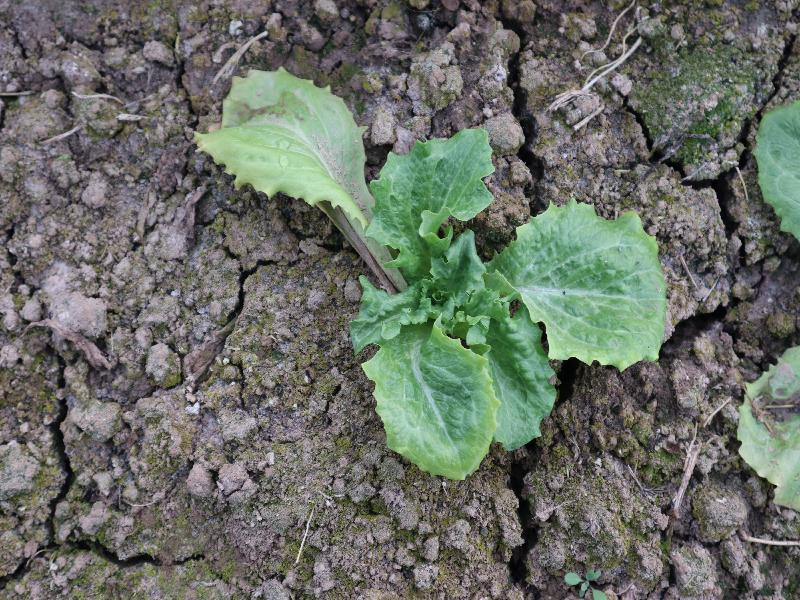lettuce: (190, 63, 666, 479)
